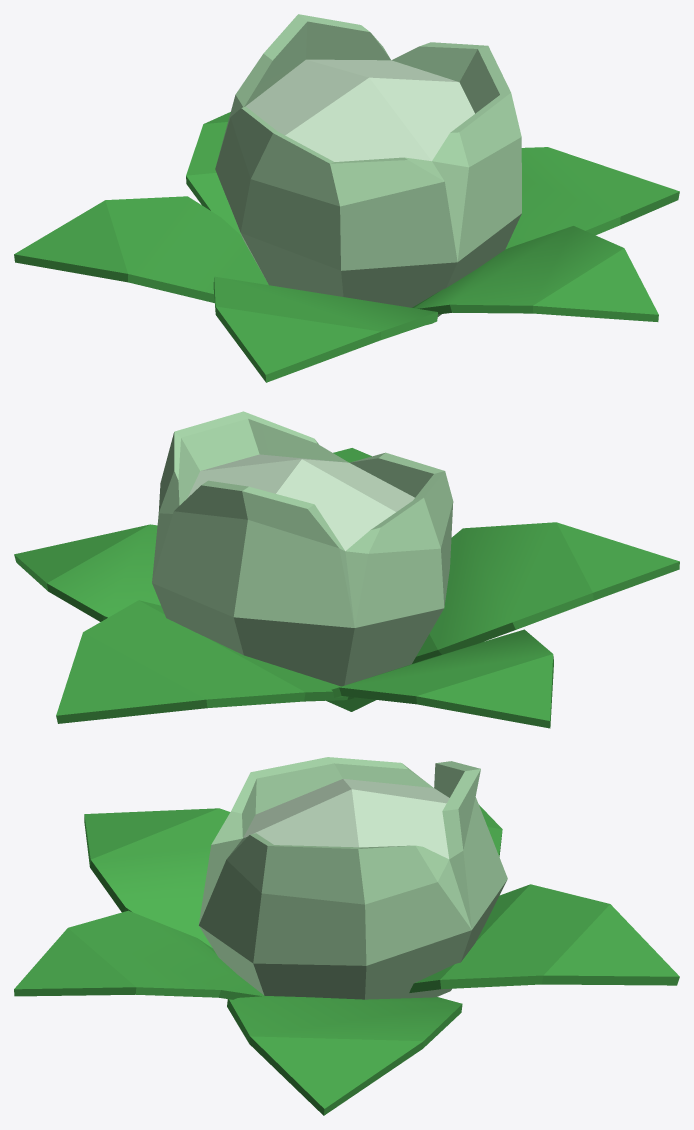
File: plant_005.glb
The picture shows the model from 3 angles, top to bottom: view 1: azimuth 30°, elevation 25°; view 2: azimuth 150°, elevation 25°; view 3: azimuth 270°, elevation 25°; orthographic projection. The views are drawn at different scales.
Visible parts, largest first — view 1: plant_005; view 2: plant_005; view 3: plant_005.
Part boxes in pixels (<box>): plant_005: <box>14,14,679,382</box>; plant_005: <box>14,411,679,728</box>; plant_005: <box>14,757,679,1115</box>.
Size of the model in its own units: 0.9923 by 0.4258 by 0.9632.
1 material, 1 textured.
